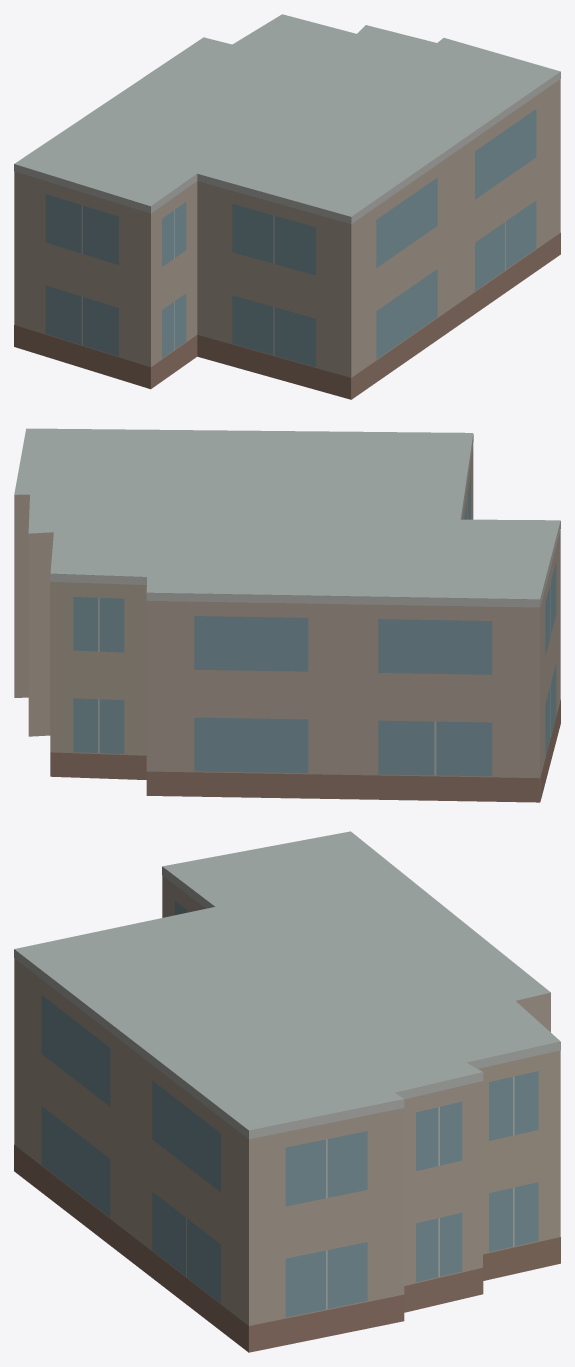
The model's file is survey-upis-33042894.glb.
3 renders of one model, top to bottom at view 1: azimuth 30°, elevation 25°; view 2: azimuth 150°, elevation 25°; view 3: azimuth 270°, elevation 25°, orthographic. The views are drawn at different scales.
Visible parts, largest first — view 1: survey-upis-33042894.tmp; view 2: survey-upis-33042894.tmp; view 3: survey-upis-33042894.tmp.
Boxes of the visible parts, left/top/right/bottom form: survey-upis-33042894.tmp: left=14, top=14, right=560, bottom=399; survey-upis-33042894.tmp: left=14, top=428, right=560, bottom=802; survey-upis-33042894.tmp: left=14, top=831, right=560, bottom=1352.
Size of the model in its own units: 17.63 by 6.1 by 13.62.
